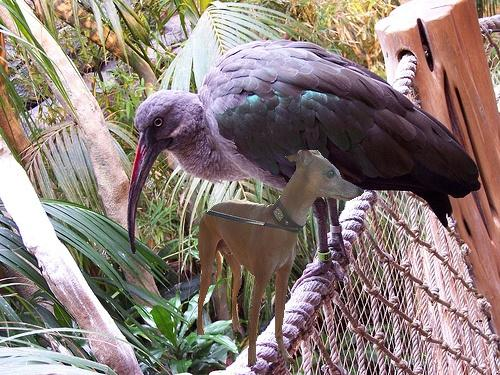tampered: (198, 151, 364, 367)
